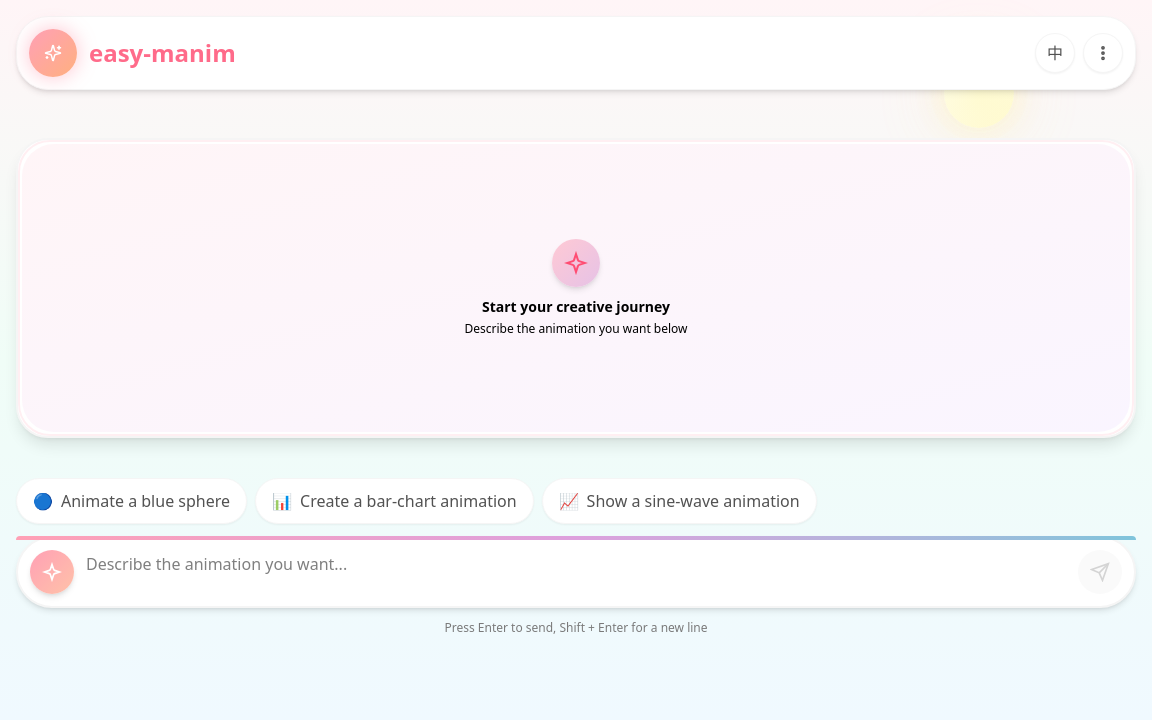
Test: studio uses a compact overflow menu for mobile toolbar actions
Expected: the element named "switch language" is shown, left=1035, top=33, right=1075, bottom=73
Click the button named "open studio actions". click: click(1103, 53)
box: left=1083, top=33, right=1123, bottom=73
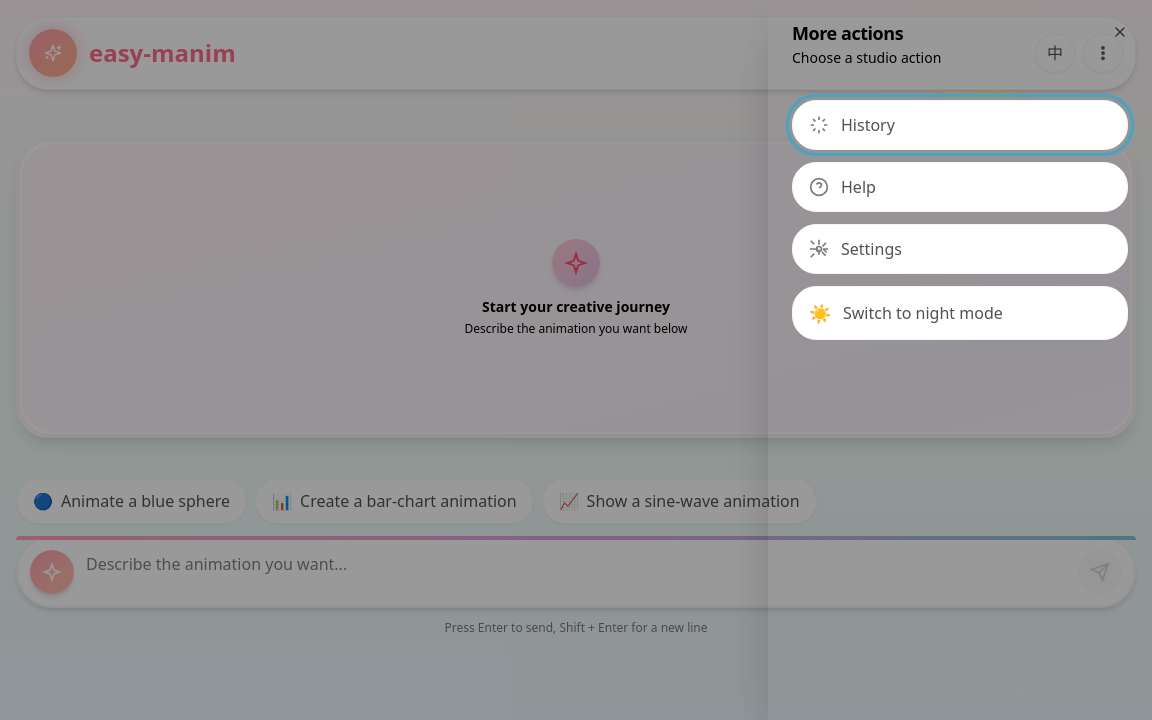
Expected: the dialog "More actions" is shown, left=768, top=0, right=1151, bottom=719
Expected: the button with aria-label "open history" is shown, left=792, top=100, right=1128, bottom=150
Expected: the button with aria-label "open help" is shown, left=792, top=162, right=1128, bottom=212
